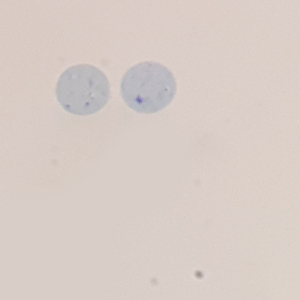erythrocyte: (118, 60, 179, 116)
punctate reticulocyte: (53, 62, 113, 117)
